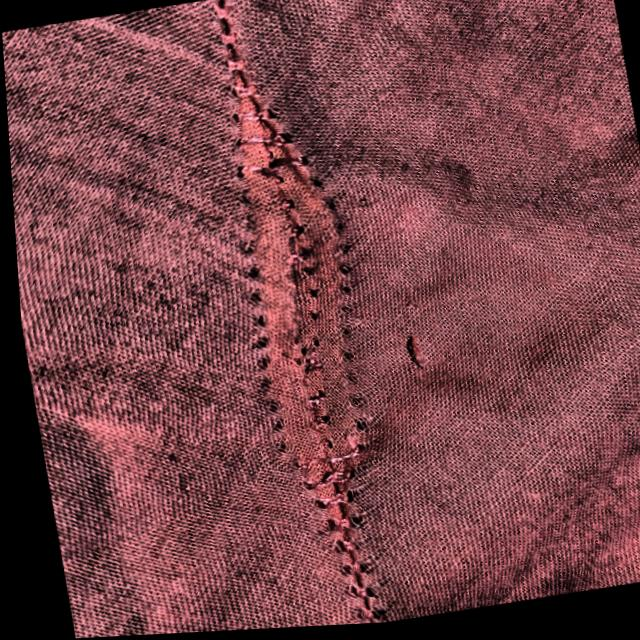seam: (179, 76, 446, 571)
